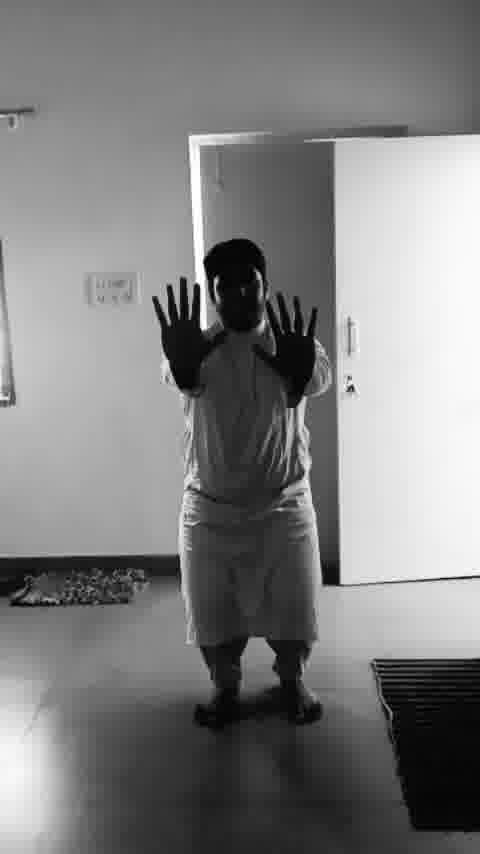duck: (146, 235, 361, 747)
